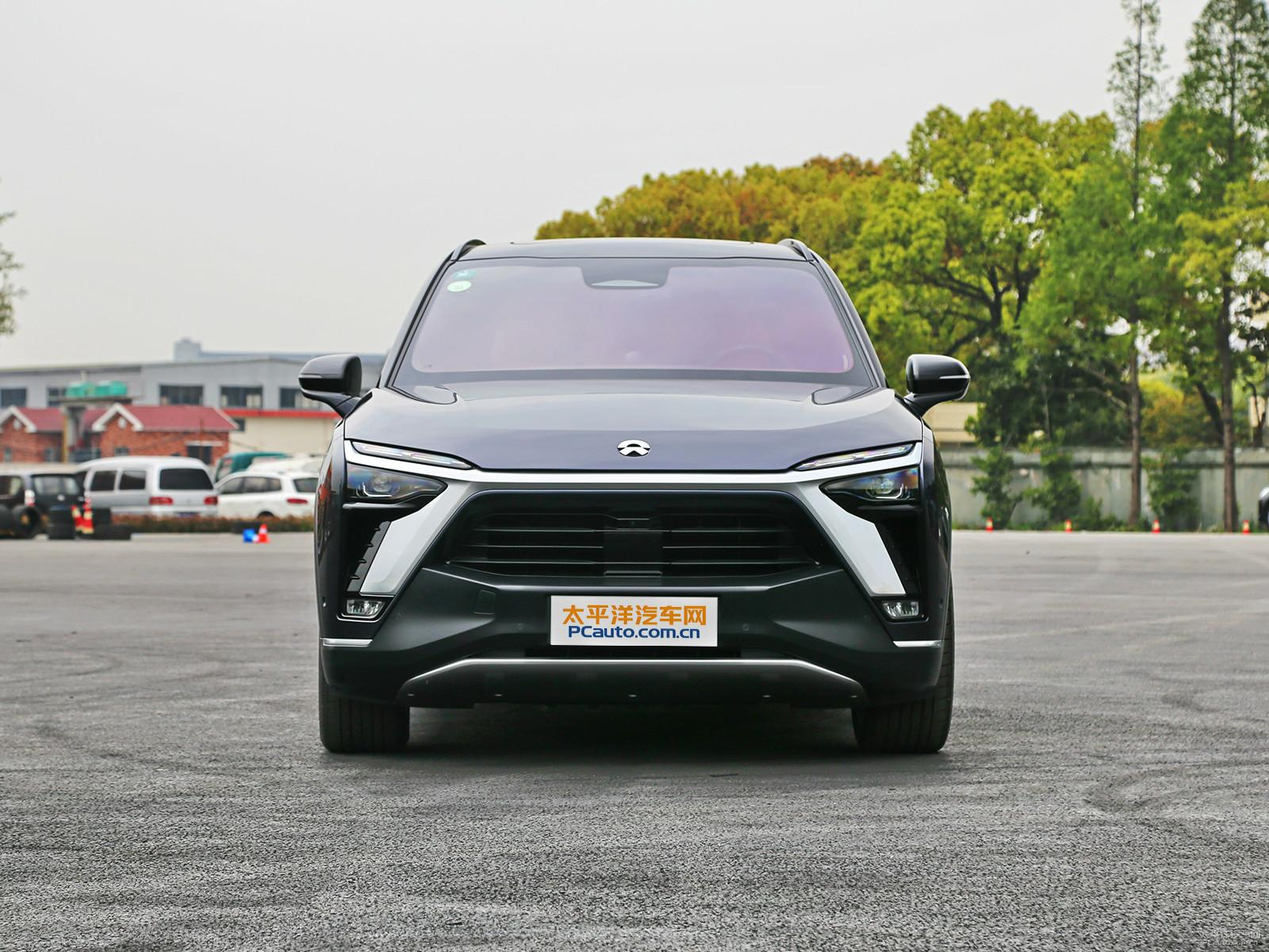NIO: (618, 440, 651, 456)
